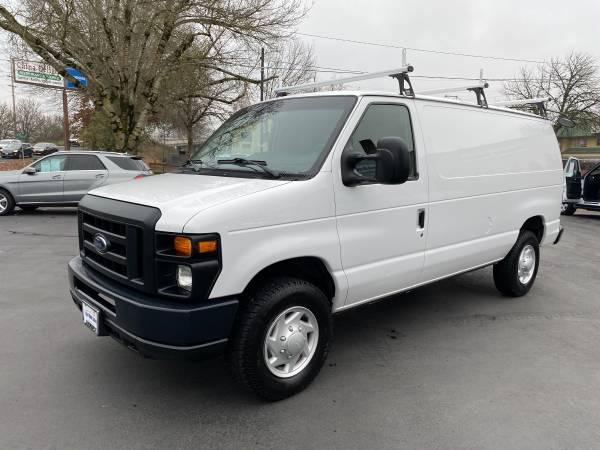Front_Fender: (184, 169, 346, 309)
Front_Left_Door: (335, 177, 428, 306)
Front_Left_Window: (334, 101, 427, 187)
Front_Windshield: (179, 90, 356, 178)
Grille: (77, 204, 158, 298)
Hood: (82, 167, 296, 231)
Left_Headlight: (150, 233, 221, 306)
Rear_Bumper: (64, 255, 235, 355)
Rear_Fender: (416, 103, 566, 286)
Roof: (324, 88, 553, 162)
Wheel: (234, 279, 333, 394), (492, 231, 541, 300)
